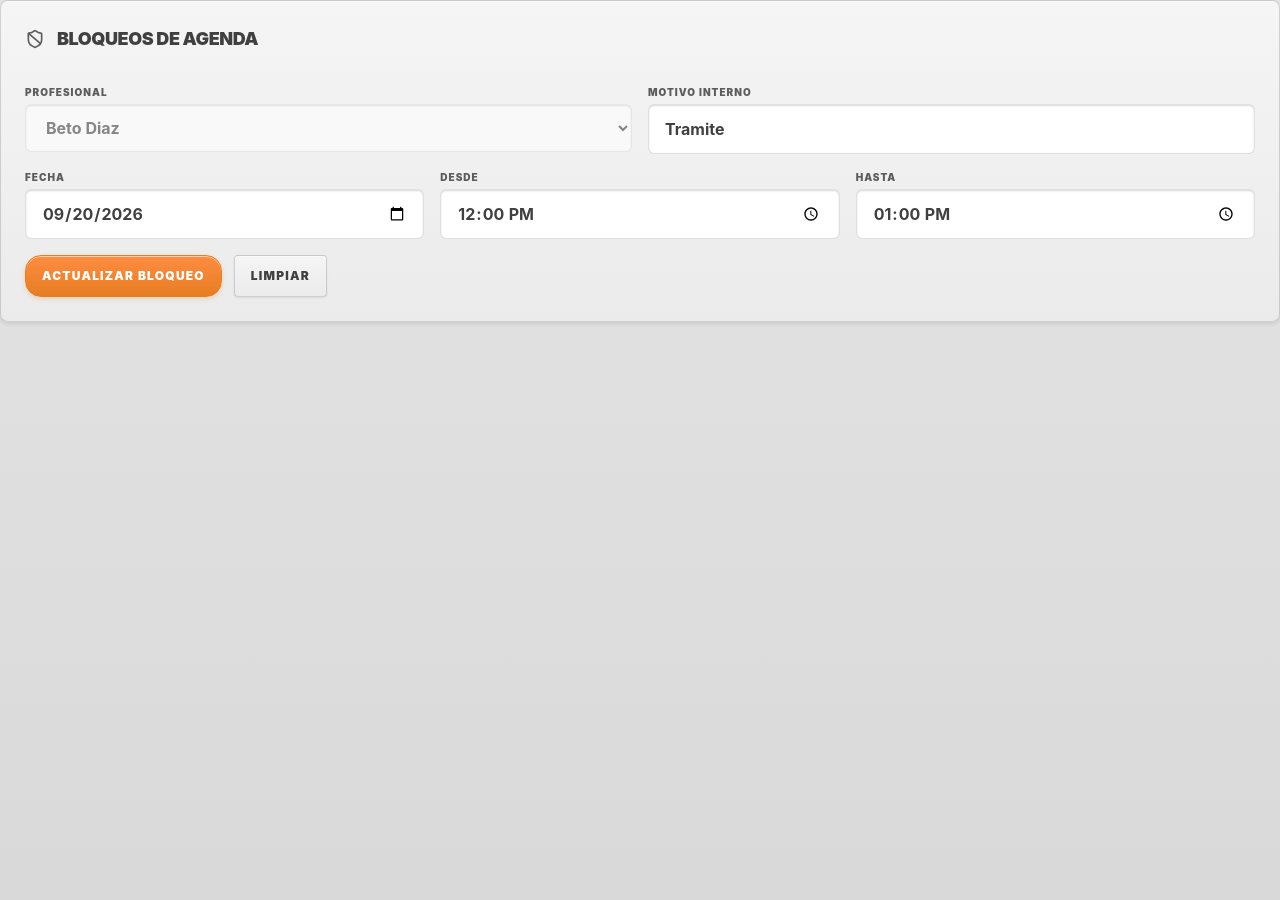
Test case: BlocksPanel › sin permiso de cancelar, el 409 muestra los turnos y pide un administrador
Click the button "Actualizar bloqueo". click: click(123, 276)
box: [25,255,222,297]
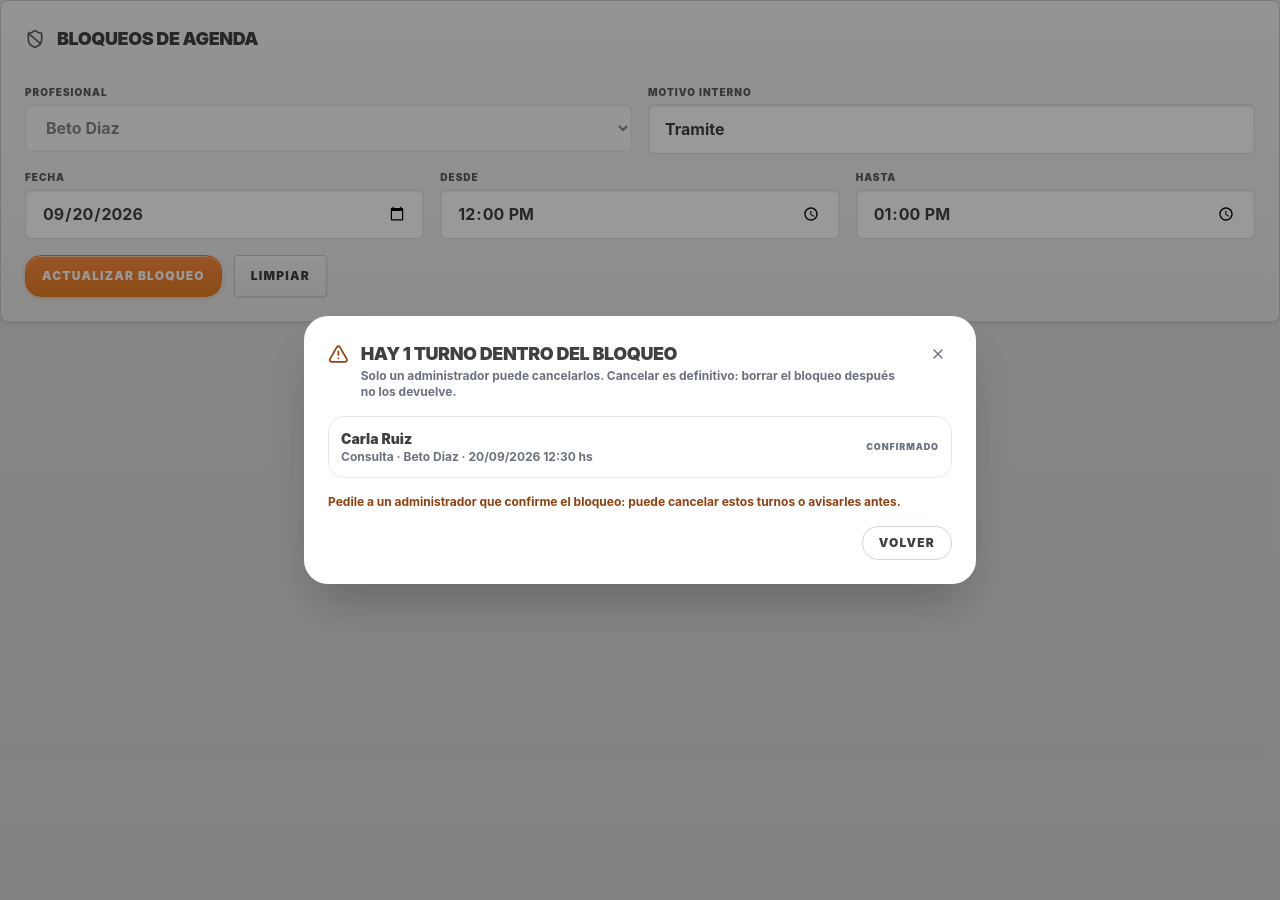
Expected: the text "Pedile a un administrador que confirme" is shown, [328,494,901,509]
